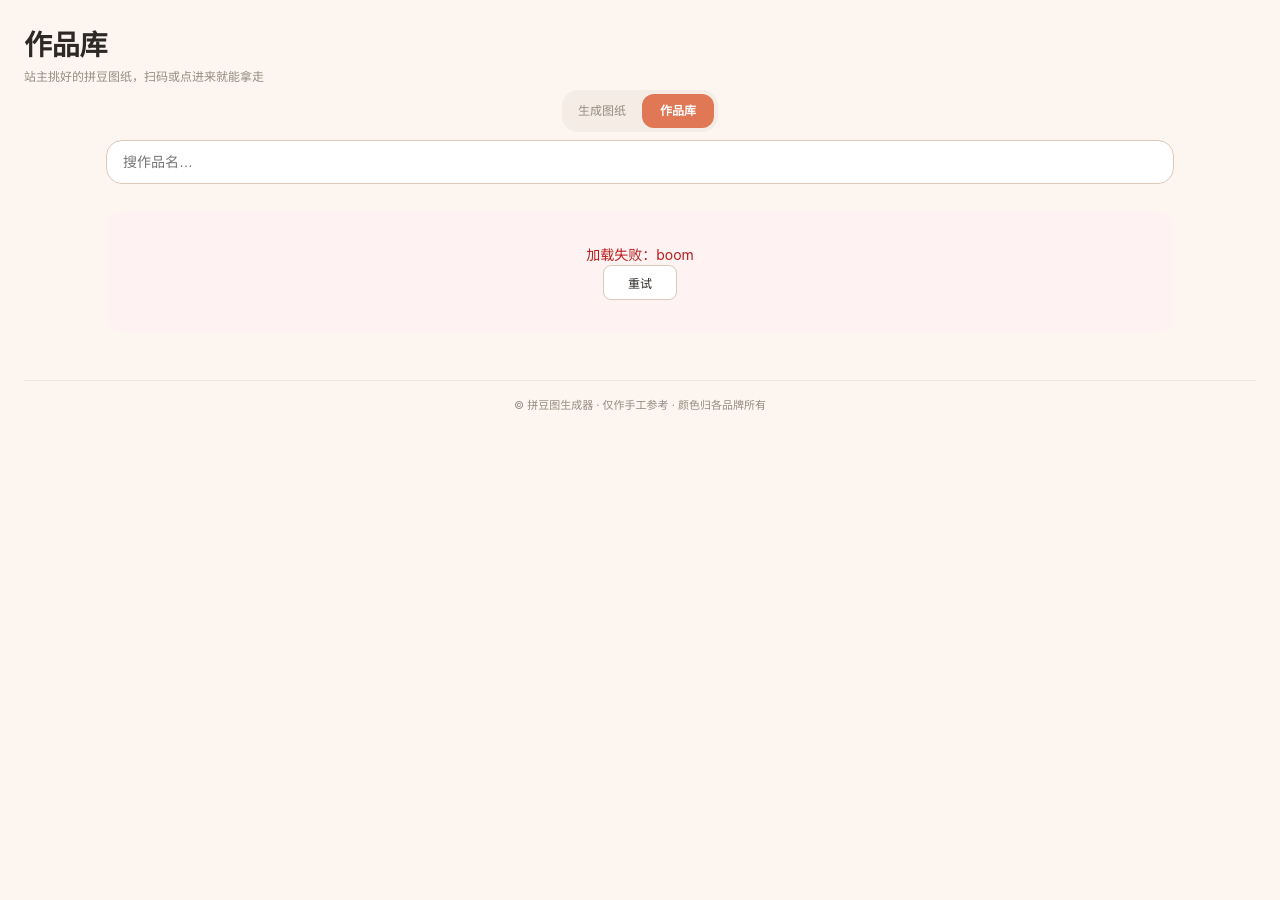
WorksListPage › 加载失败给出错误与重试按钮，重试后能出列表
Check: the text "加载失败：boom" is shown, box [586,246,694,263]
Click the button "重试". click: (640, 282)
box: [603,265,677,300]
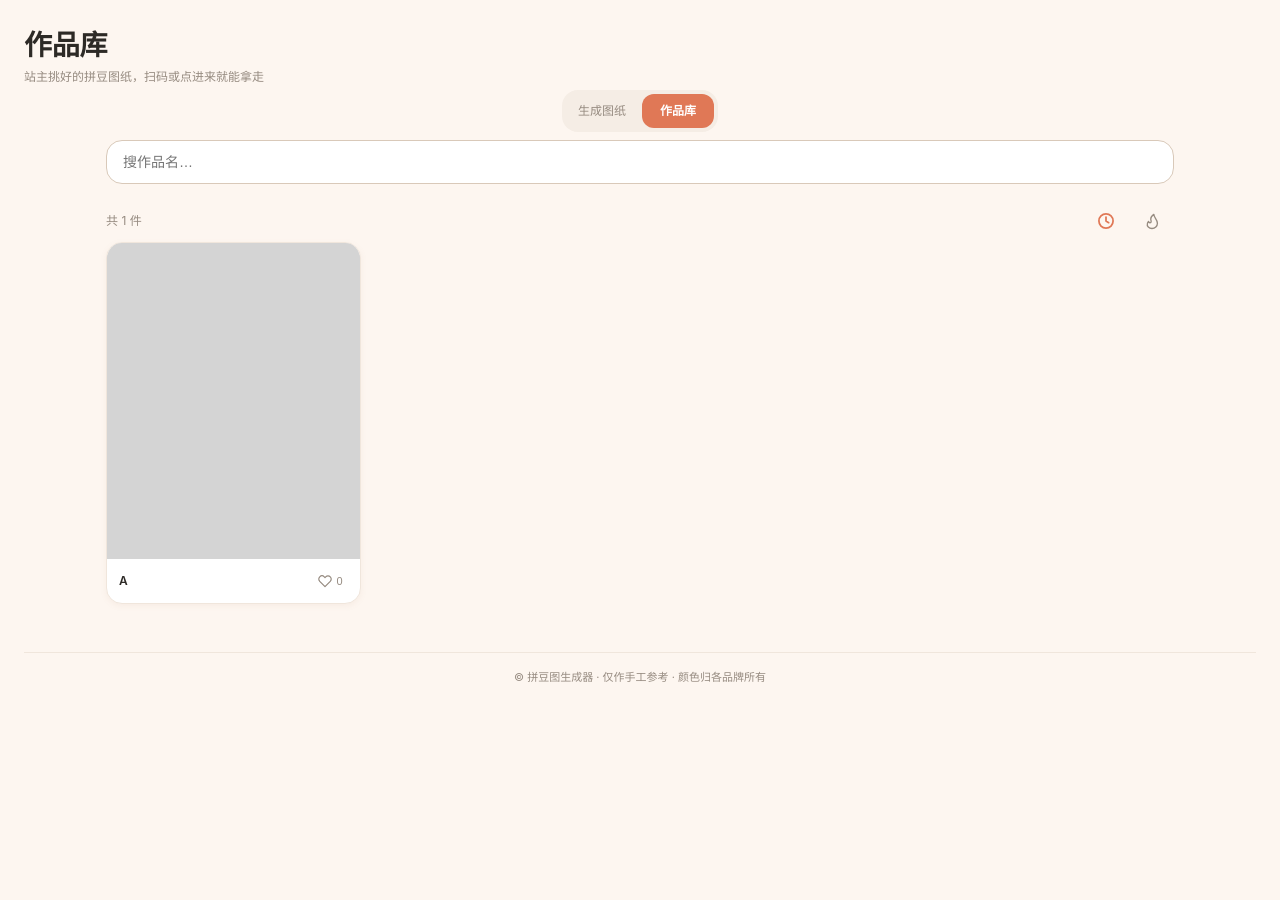
Check: the text "A" is shown, box [119,573,128,588]
